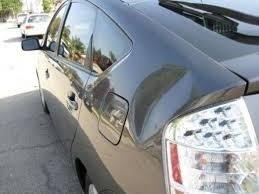Dent: (131, 64, 196, 143), (91, 76, 115, 116)
